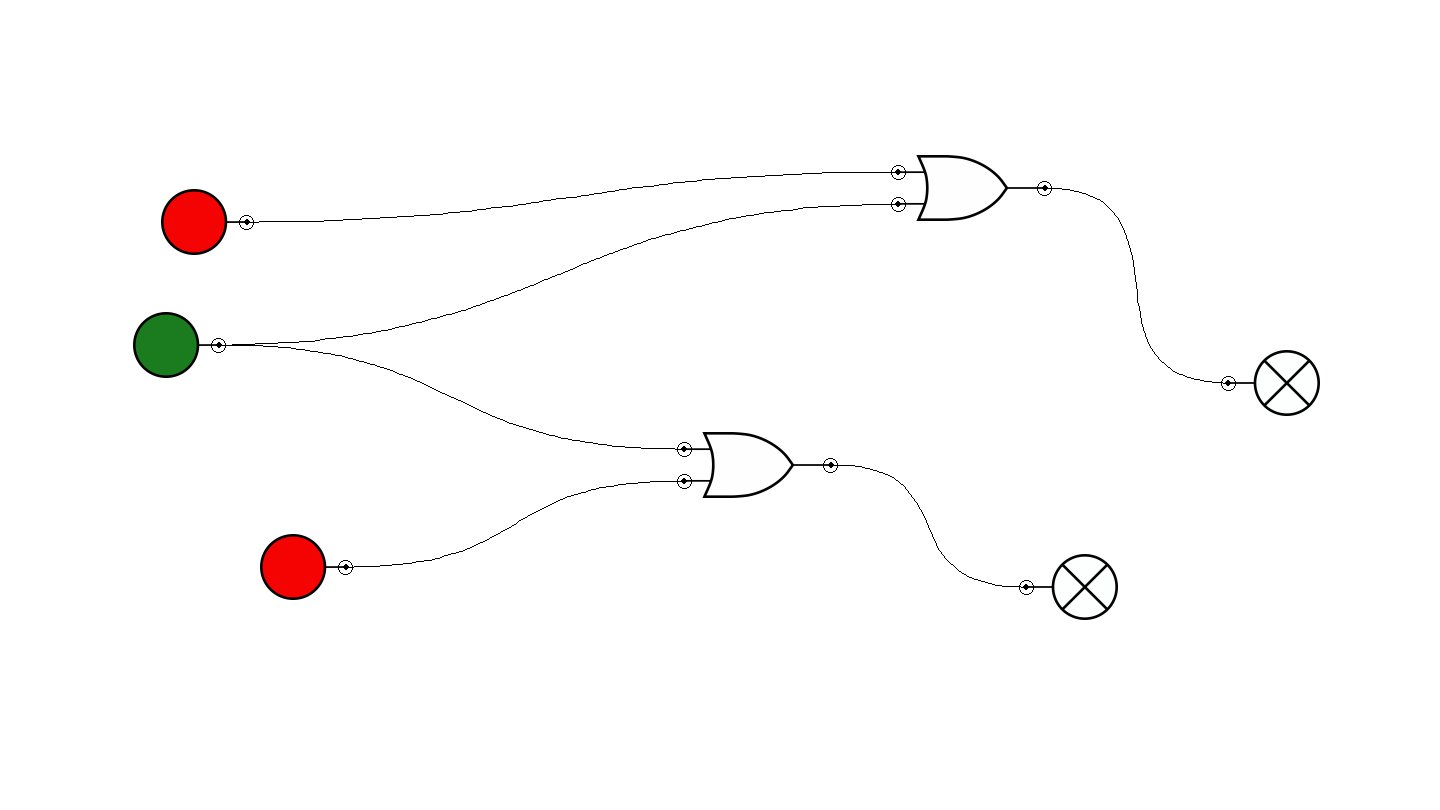bulb: (1221, 350, 1320, 416), (1019, 554, 1118, 620)
or: (677, 432, 838, 498), (891, 155, 1052, 221)
switch_False: (161, 189, 254, 255), (260, 534, 353, 600)
switch_True: (133, 312, 226, 378)
